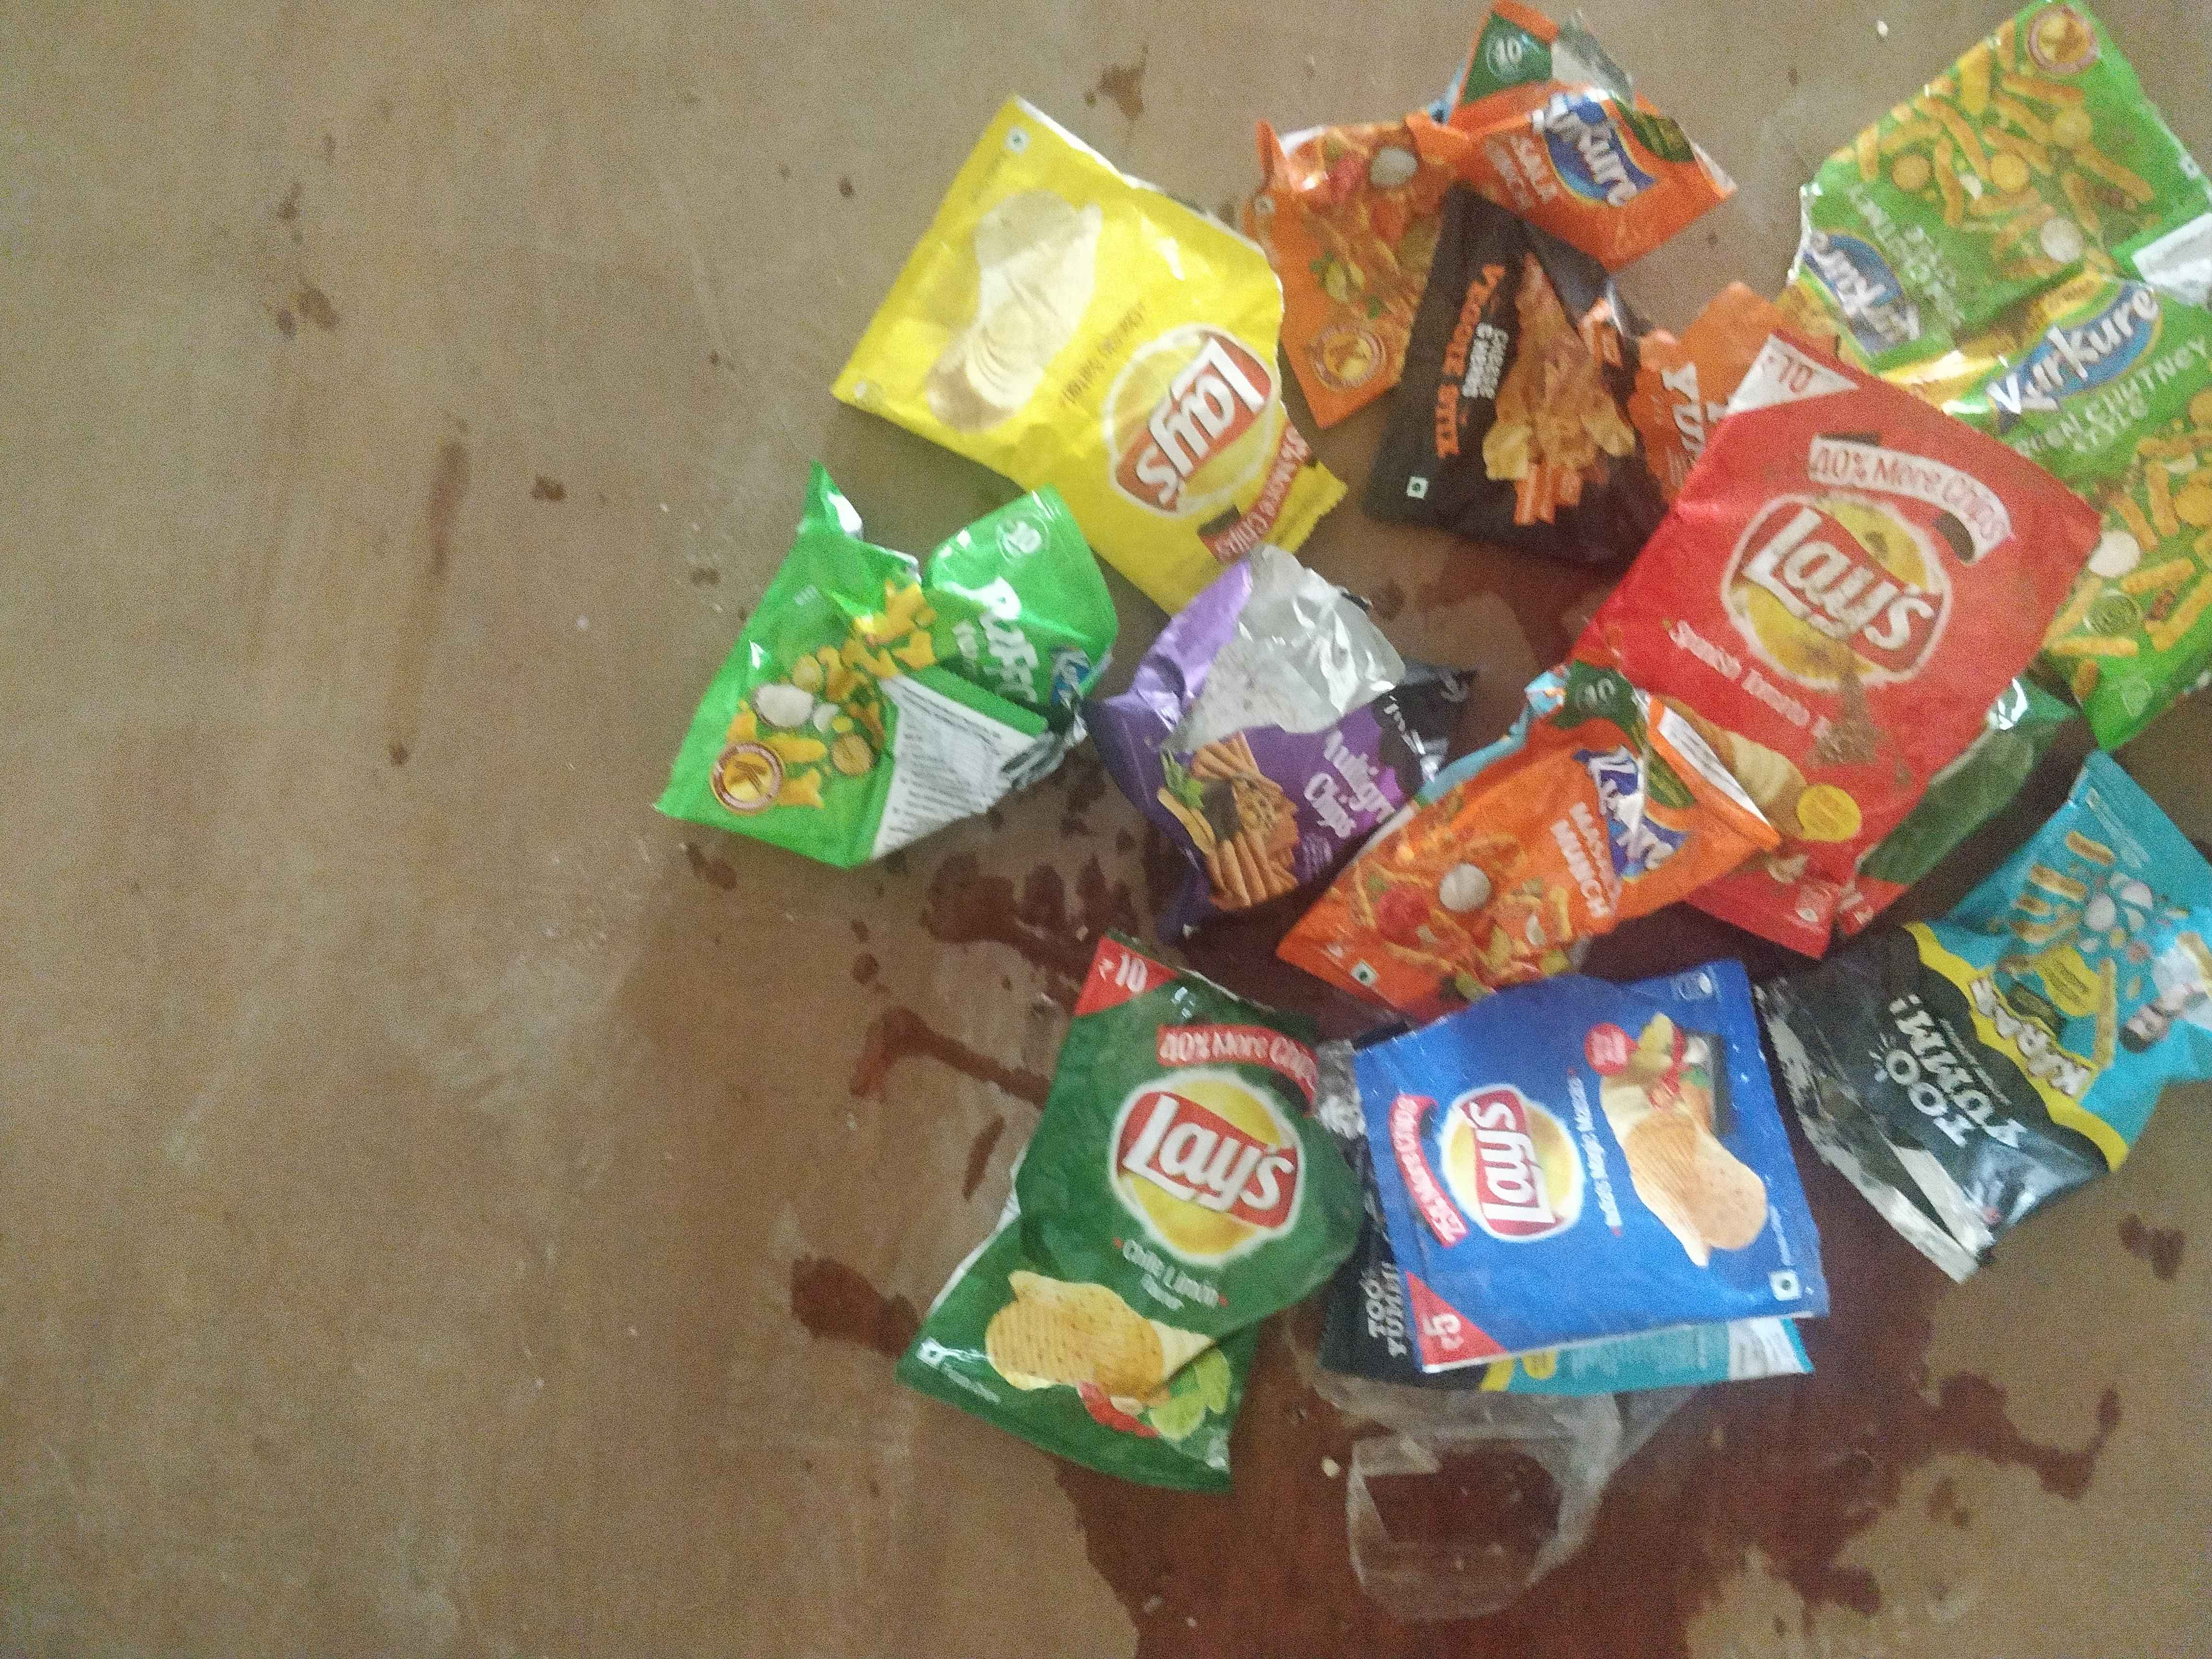Lays: (1700, 491, 1994, 647), (1103, 1070, 1320, 1237), (1103, 322, 1282, 525), (1451, 1066, 1568, 1258)
kurkure: (1994, 277, 2160, 411), (1576, 742, 1700, 868), (1534, 73, 1644, 204), (1803, 221, 1905, 345), (1052, 638, 1094, 725)
tooyumm: (1871, 985, 2054, 1162), (1644, 338, 1747, 451), (1355, 671, 1449, 788), (1355, 1249, 1428, 1364)
